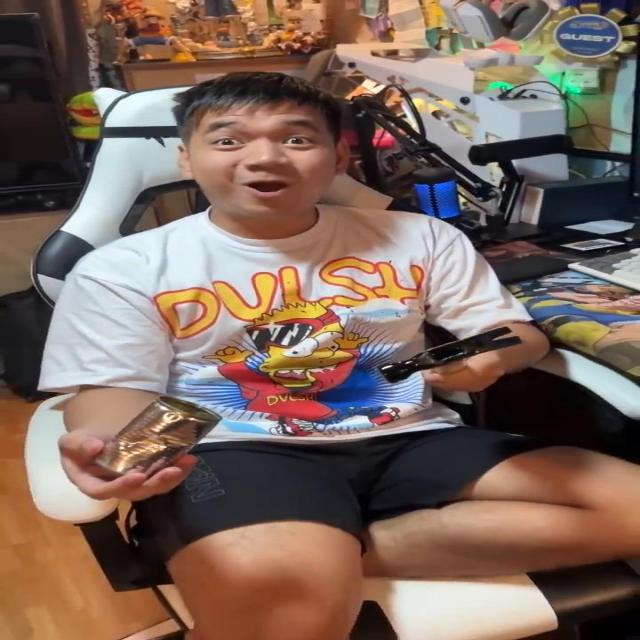hammer: (375, 324, 528, 386)
